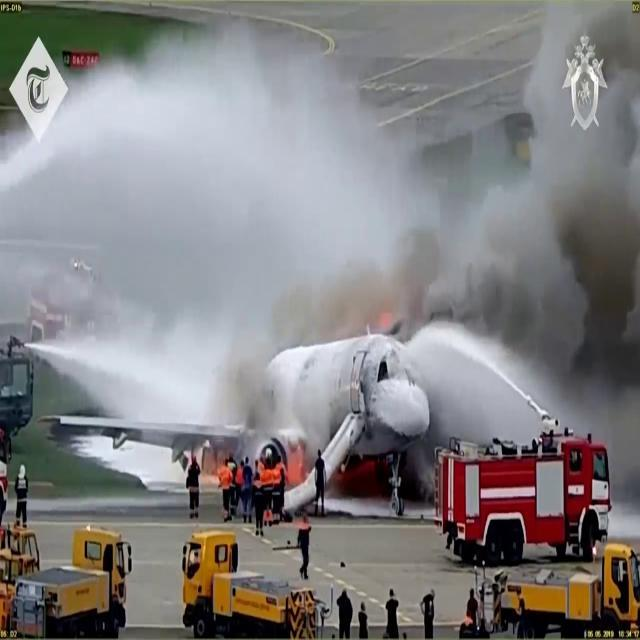Smoke: (28, 0, 640, 407)
